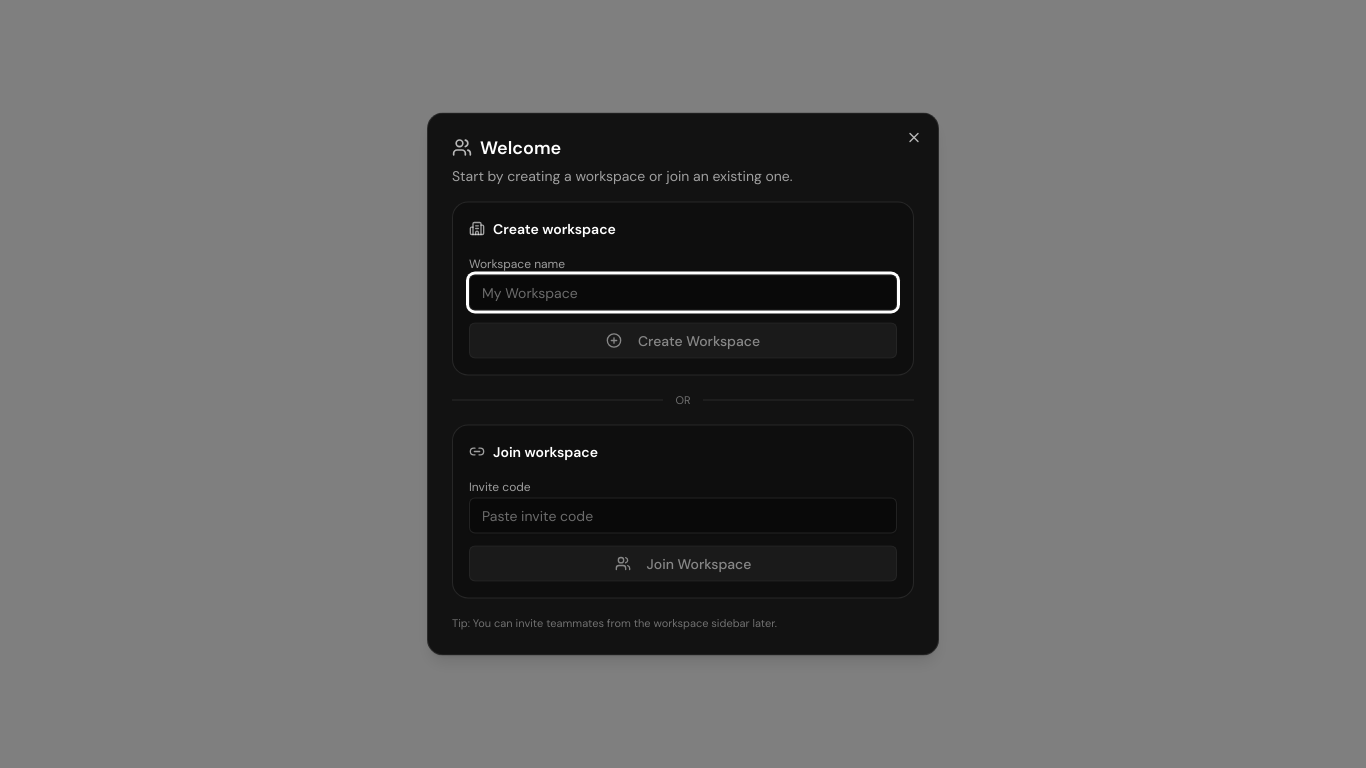
Scenario: WorkspaceOnboardingModal › shows inline error 'Workspace name is required' when name is too short
Type "a" into the field with placeholder "My Workspace" at (683, 292), box [469,274,897,310]
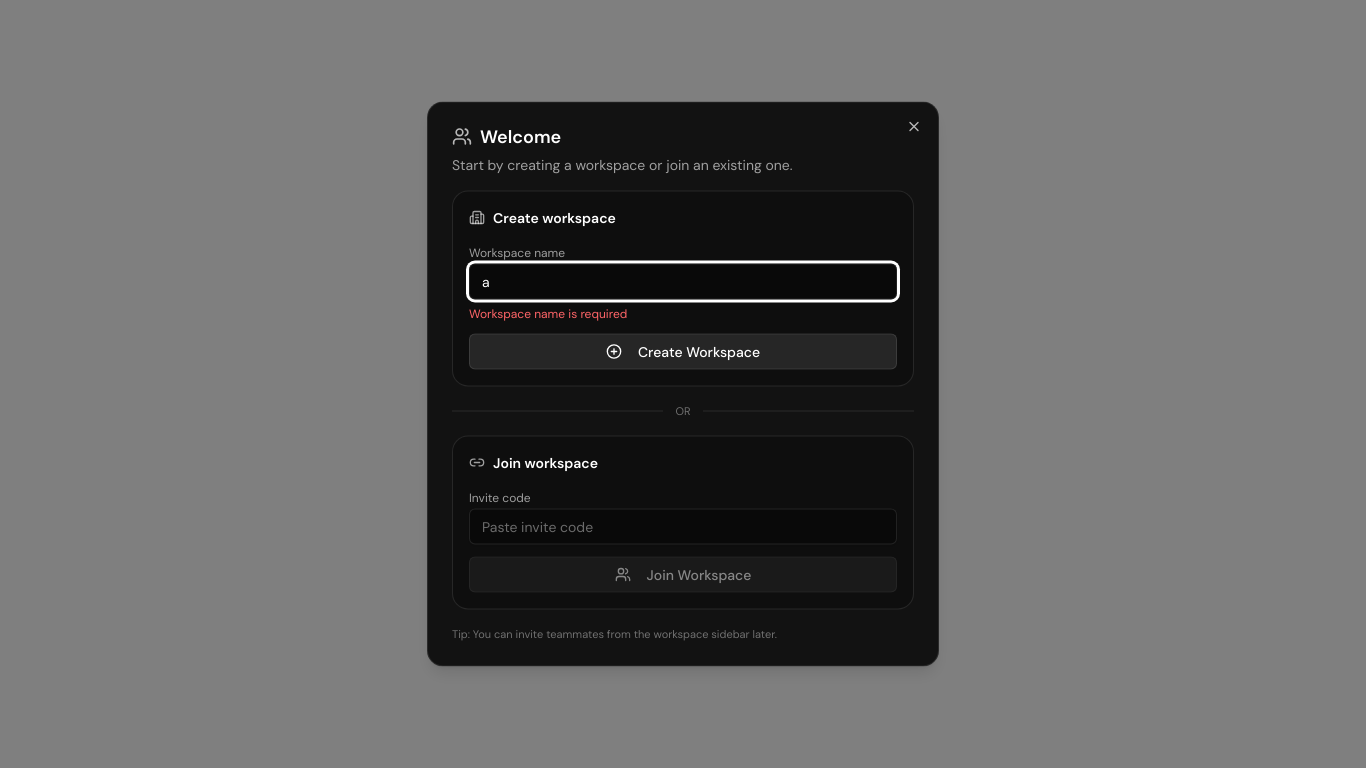
Expected: the text "Workspace name is required" is shown, [469,306,627,322]
